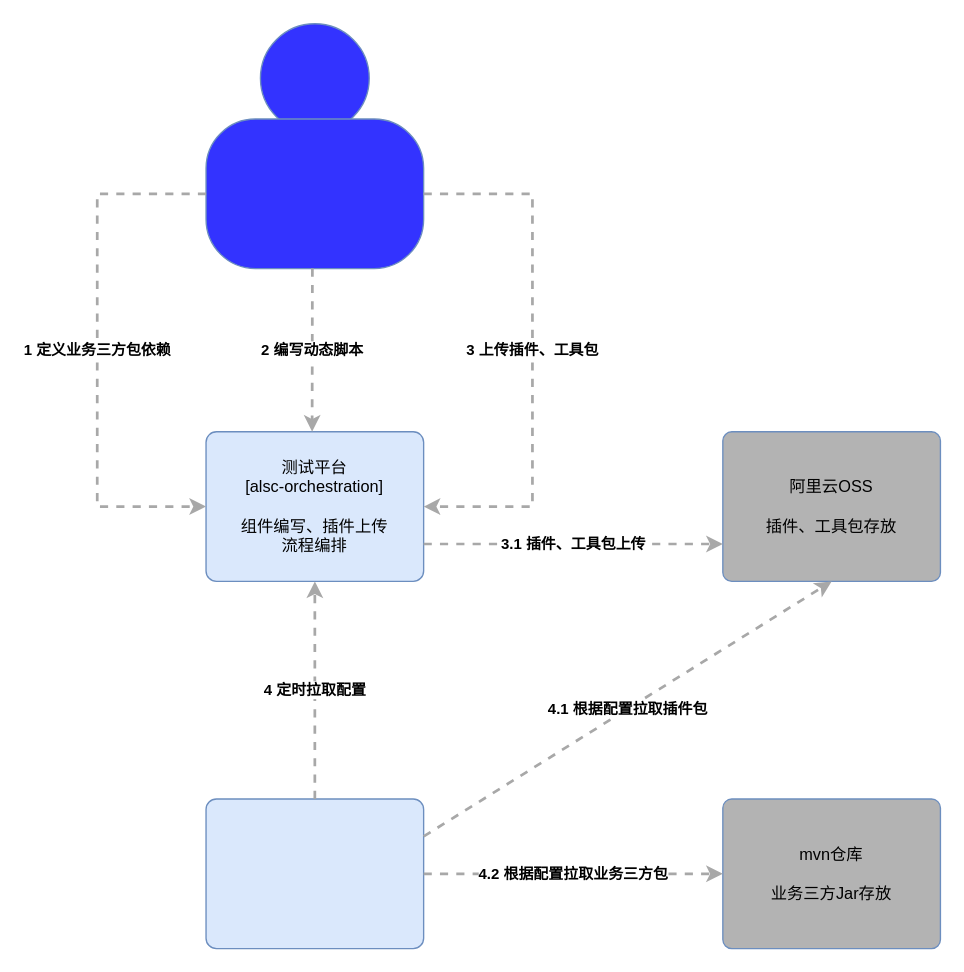
This 964x972 diagram has some shape labels left out. Here are the shapes that lost their labels. From the top down, the centre of each, then its label:
(314,193): 用户 [Person] 组件/工具开发
(314,873): 执行平台 [alsc-orch-engine] 加载脚本、加载插件 流程执行
